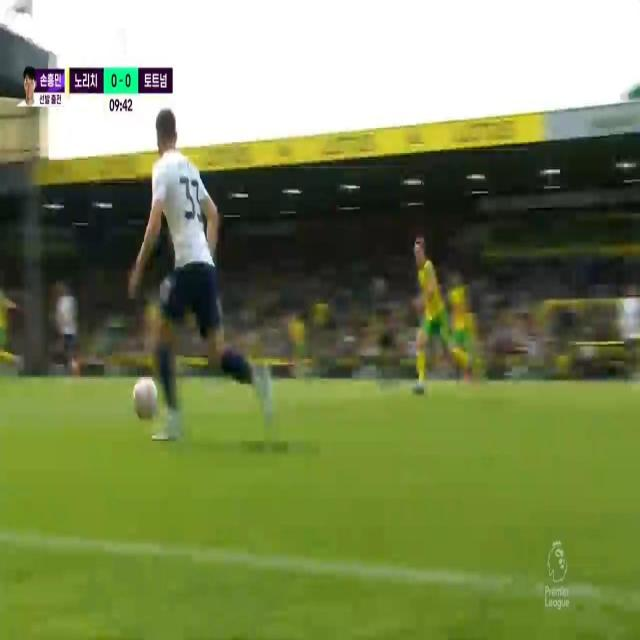ball: (126, 374, 164, 423)
player: (132, 86, 280, 437), (401, 222, 474, 382), (447, 260, 471, 374)
